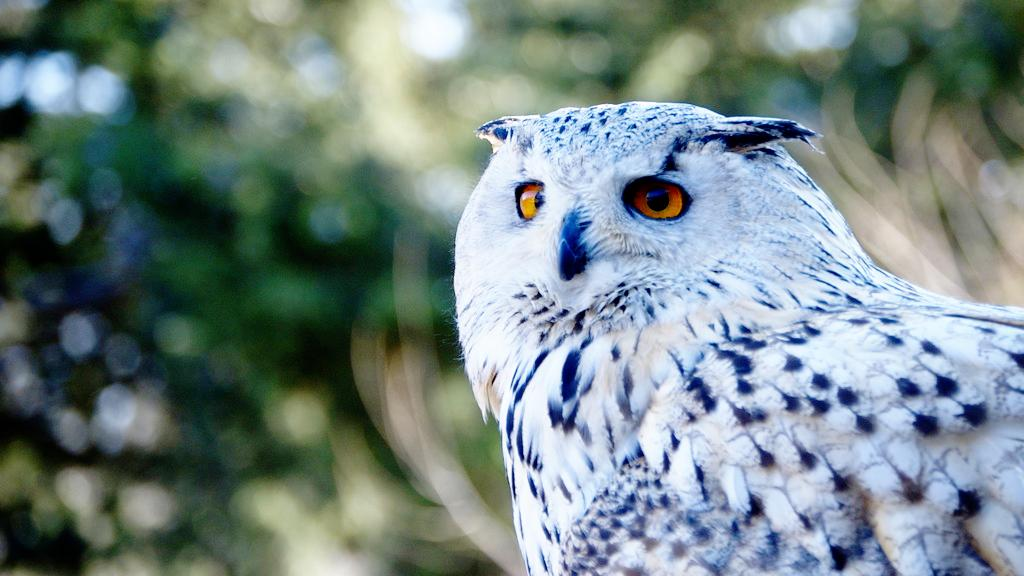Owl: (456, 94, 1024, 576)
